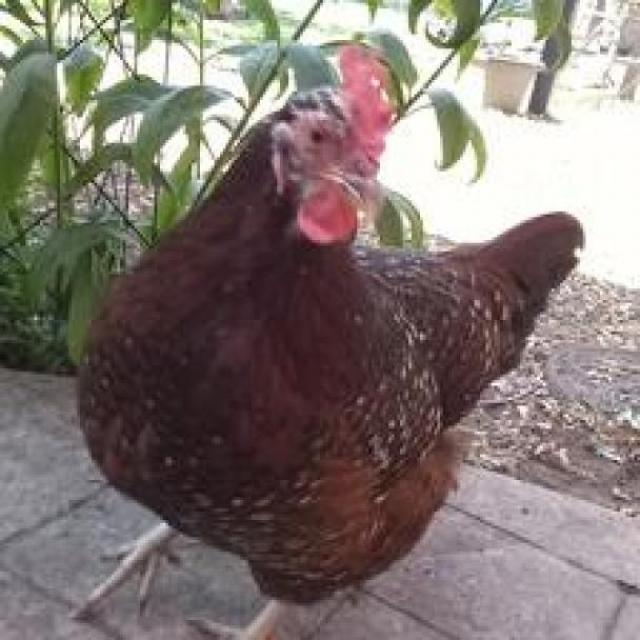Chicken: (53, 52, 612, 640)
